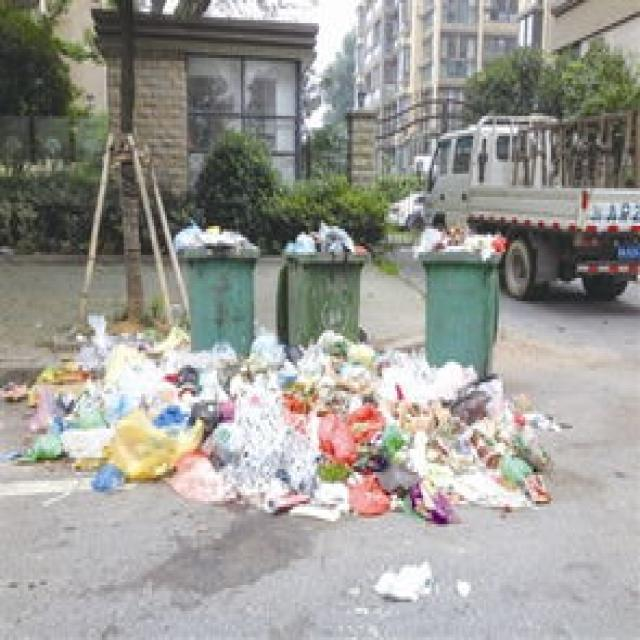garbage: (0, 313, 560, 521)
overflow: (412, 223, 506, 376), (172, 220, 258, 348), (276, 217, 364, 342)
